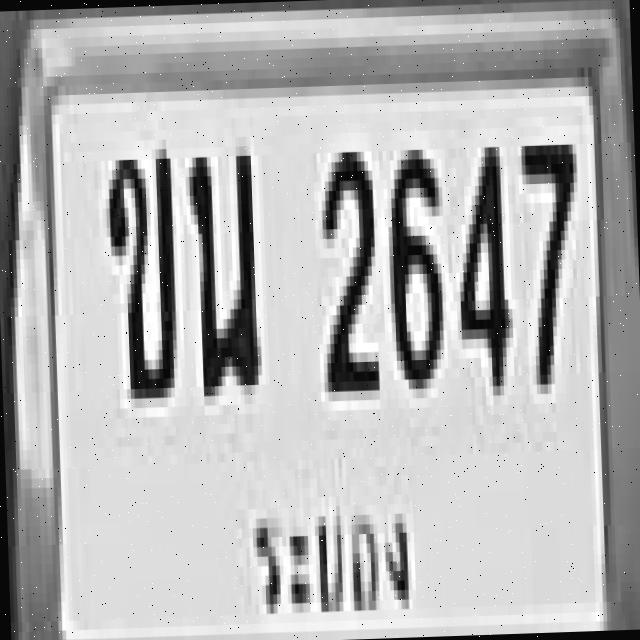11KhorKhai: (104, 139, 174, 390)
2: (316, 142, 376, 392)
34NorNu: (186, 136, 256, 387)
4: (451, 137, 507, 387)
6: (382, 139, 441, 380)
7: (516, 134, 580, 384)
Rayong: (243, 491, 423, 640)
